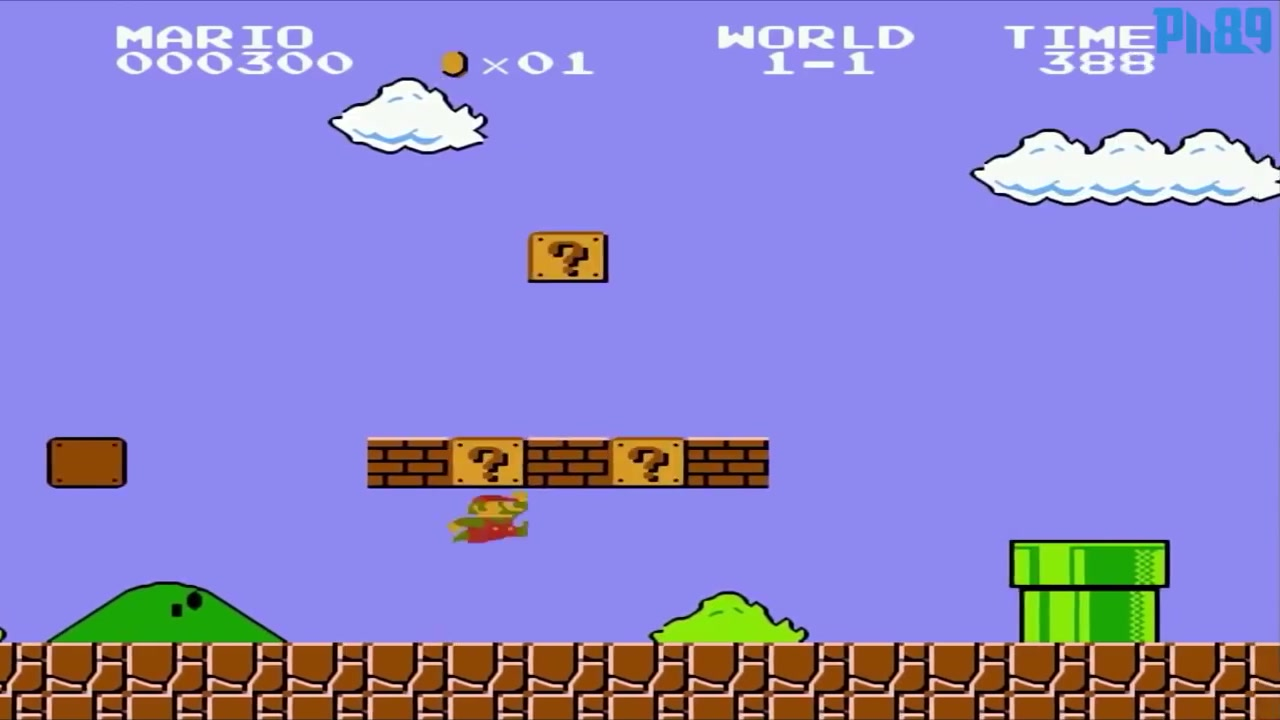mario: (447, 487, 535, 553)
